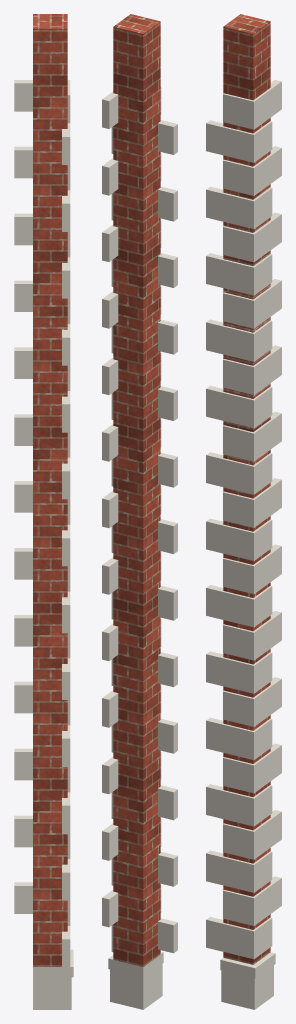
Rendered from corner_tower.glb.
3 renders of one model, left to right at view 1: azimuth 90°, elevation 25°; view 2: azimuth 150°, elevation 25°; view 3: azimuth 330°, elevation 25°, orthographic.
Visible parts, largest first — view 1: corner_tower_brick, corner_tower_lime; view 2: corner_tower_brick, corner_tower_lime; view 3: corner_tower_lime, corner_tower_brick.
Part boxes in pixels (x1,y1,x2,y2): corner_tower_brick: (33,14,67,966); corner_tower_lime: (14,80,73,1009); corner_tower_brick: (113,14,160,966); corner_tower_lime: (102,87,177,1009); corner_tower_lime: (206,80,281,1009); corner_tower_brick: (223,14,270,964).
Size of the model in its own units: 0.61 by 11.15 by 0.61.
Materials: 2 (1 with a texture image).
